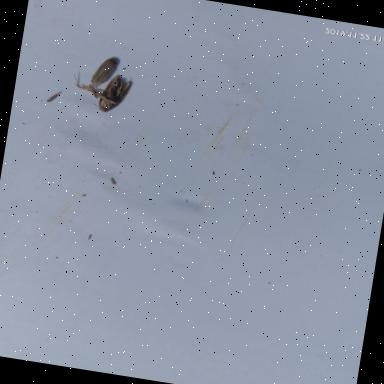pbw: (88, 72, 134, 117), (88, 53, 120, 91)
